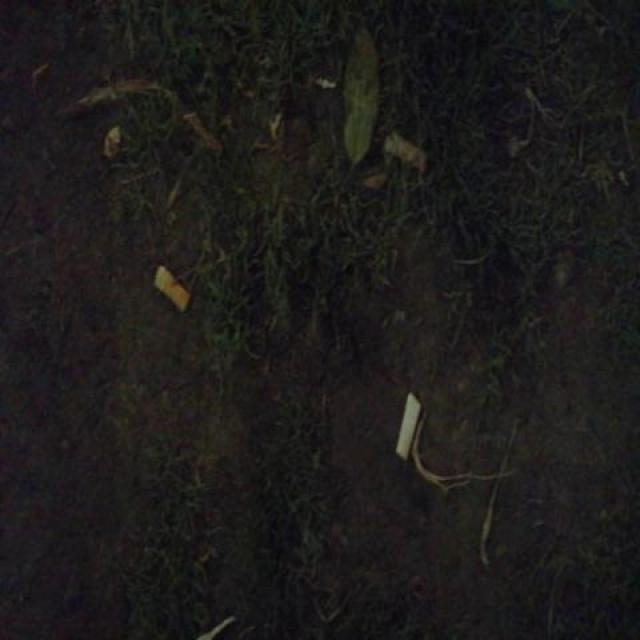non-organic waste: (380, 127, 431, 180), (151, 260, 193, 316), (393, 388, 423, 464)
